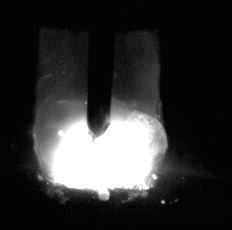arame: (88, 0, 112, 137)
poca: (33, 0, 168, 230)
